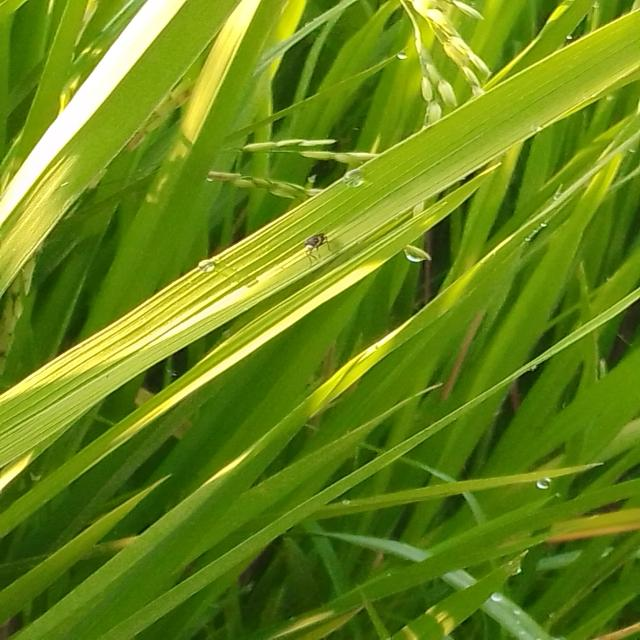Leaf scald: (297, 225, 342, 270)
